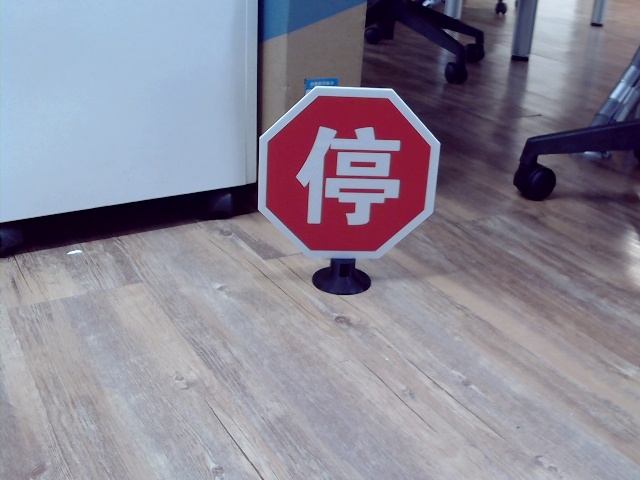stop: (294, 121, 401, 227)
